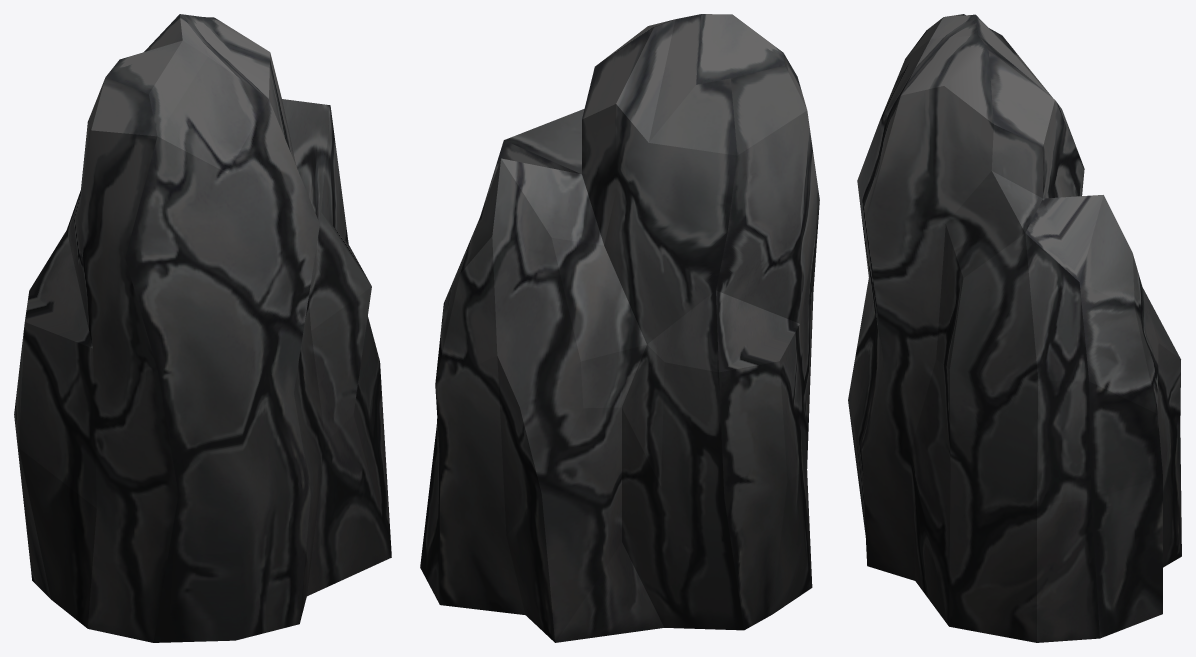
File: fanasty_mod_standing_stone.fbx
3 views of the same model, side by side, from view 1: azimuth 30°, elevation 25°; view 2: azimuth 150°, elevation 25°; view 3: azimuth 270°, elevation 25° (orthographic). The views are drawn at different scales.
Visible parts, largest first — view 1: standing_stone; view 2: standing_stone; view 3: standing_stone.
Boxes of the visible parts, x1,y1,x2,y2 form: standing_stone: [14, 14, 391, 642]; standing_stone: [420, 14, 819, 642]; standing_stone: [848, 14, 1181, 642].
Size of the model in its own units: 1.53 by 2.37 by 1.37.
